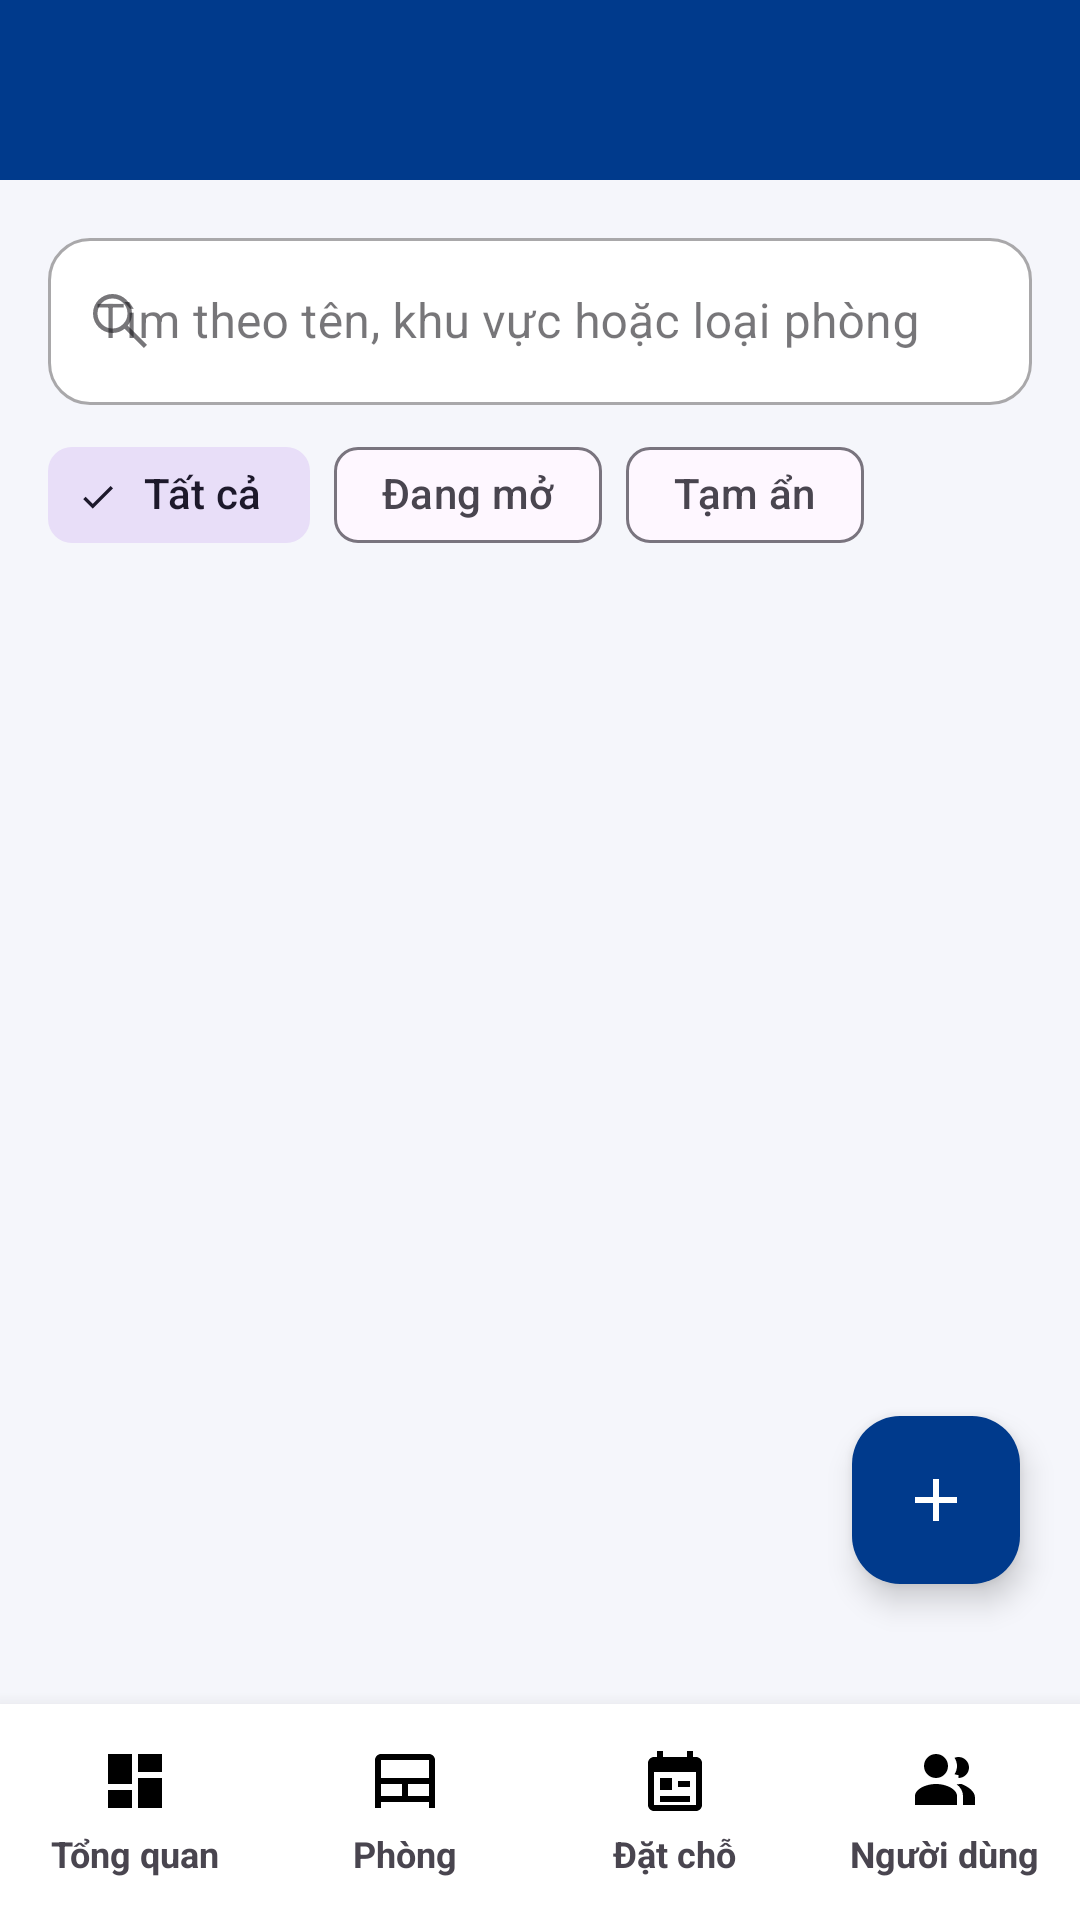

Icons on this 1080px×1920px Android screen, each with the point to tap as (x=x, y=y):
Thêm phòng: (x=936, y=1500)
